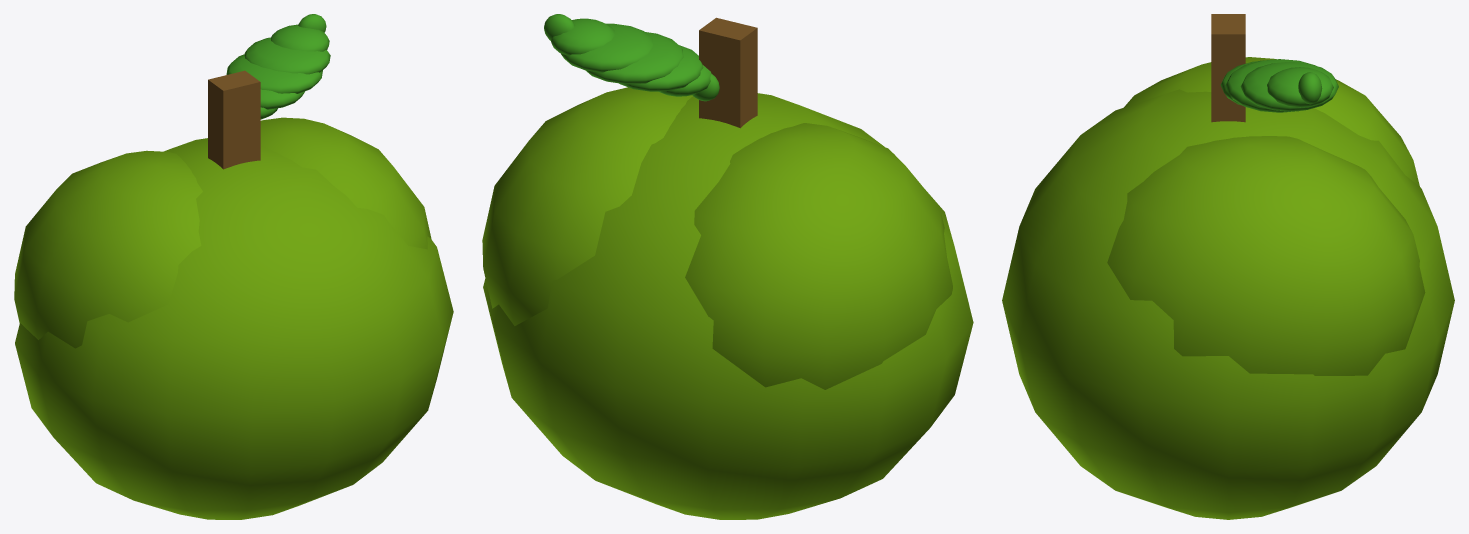
Rendered from CMU3DGreenApple.glb.
3 views of the same model, side by side, from view 1: azimuth 30°, elevation 25°; view 2: azimuth 150°, elevation 25°; view 3: azimuth 270°, elevation 25° (orthographic). The views are drawn at different scales.
Visible parts, largest first — view 1: apple body, apple shoulder (×2), green apple leaf (×4), brown apple stem; view 2: apple body, apple shoulder (×2), green apple leaf (×5), brown apple stem; view 3: apple body, apple shoulder (×2), green apple leaf (×4), brown apple stem.
Boxes of the visible parts, x1=… form: apple body: x1=15, y1=138, x2=453, y2=519; apple shoulder (×2): x1=14, y1=117, x2=431, y2=348; green apple leaf (×4): x1=226, y1=24, x2=330, y2=109; brown apple stem: x1=208, y1=70, x2=260, y2=169; apple body: x1=483, y1=93, x2=973, y2=519; apple shoulder (×2): x1=482, y1=87, x2=952, y2=389; green apple leaf (×5): x1=551, y1=18, x2=711, y2=96; brown apple stem: x1=699, y1=17, x2=757, y2=128; apple body: x1=1002, y1=89, x2=1454, y2=519; apple shoulder (×2): x1=1107, y1=57, x2=1425, y2=375; green apple leaf (×4): x1=1225, y1=59, x2=1338, y2=112; brown apple stem: x1=1211, y1=14, x2=1245, y2=122.
Size of the model in its own units: 0.38 by 0.3995 by 0.34.
